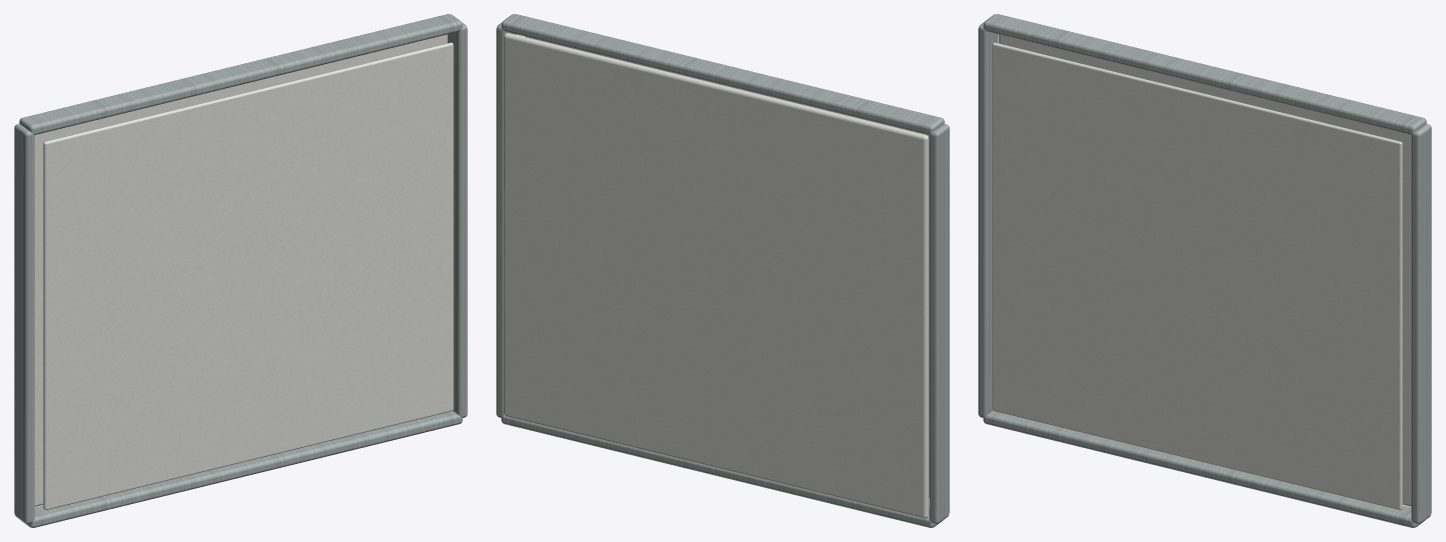
The model's file is detail-station-map-0.glb.
The picture shows the model from 3 angles, left to right: view 1: azimuth 30°, elevation 25°; view 2: azimuth 150°, elevation 25°; view 3: azimuth 330°, elevation 25°; orthographic projection.
Parts seen in each view (by area): view 1: graphic_surface, frame_rail (×2), frame_side (×2), panel_back; view 2: panel_back, frame_rail (×2), frame_side (×2), graphic_surface; view 3: graphic_surface, frame_rail (×2), frame_side (×2), panel_back.
Part boxes in pixels (x1,y1,x2,y2): graphic_surface: (43, 42, 453, 510); frame_rail (×2): (19, 14, 462, 527); frame_side (×2): (14, 22, 467, 523); panel_back: (34, 34, 446, 506); panel_back: (503, 33, 928, 518); frame_rail (×2): (501, 14, 944, 527); frame_side (×2): (496, 22, 949, 523); graphic_surface: (525, 36, 929, 497); graphic_surface: (992, 42, 1402, 510); frame_rail (×2): (983, 14, 1426, 527); frame_side (×2): (978, 22, 1431, 523); panel_back: (999, 34, 1411, 506).
Bounding box in the file's own units: 1.54 × 1.34 × 0.1045.
2 materials, 2 textured.
